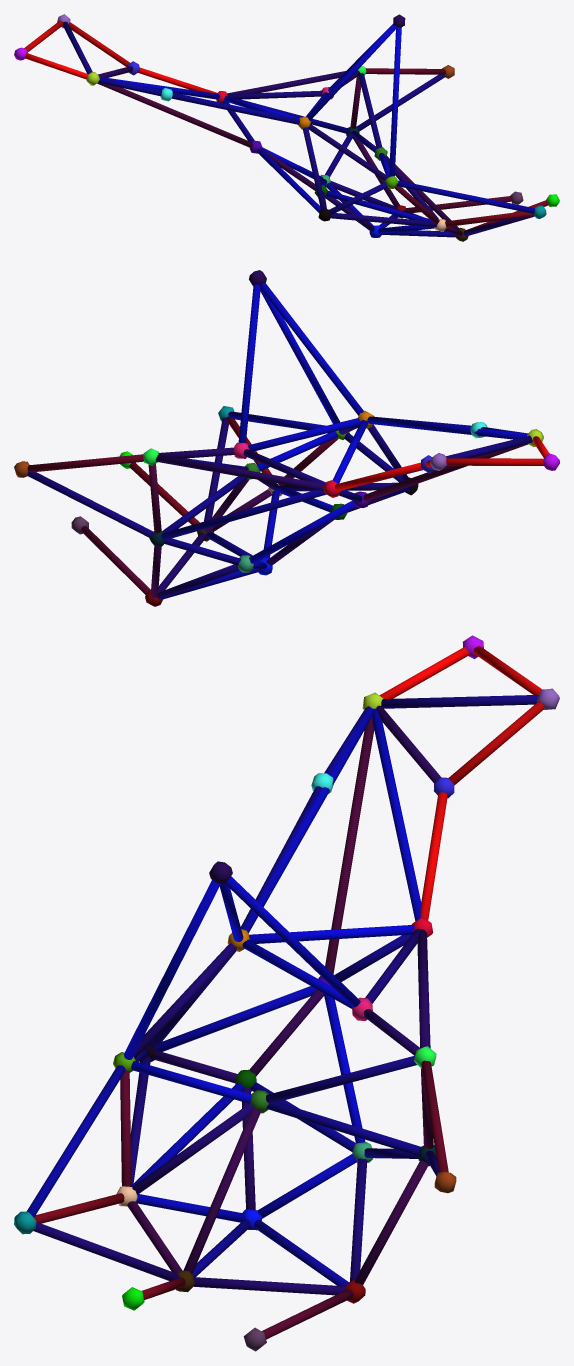
File: hand_skel.glb
The picture shows the model from 3 angles, top to bottom: view 1: azimuth 30°, elevation 25°; view 2: azimuth 150°, elevation 25°; view 3: azimuth 270°, elevation 25°; orthographic projection. The views are drawn at different scales.
Visible parts, largest first — view 1: fg-00329-skel; view 2: fg-00329-skel; view 3: fg-00329-skel.
Part boxes in pixels (left/top/right/bottom): fg-00329-skel: left=14, top=14, right=559, bottom=241; fg-00329-skel: left=14, top=270, right=559, bottom=606; fg-00329-skel: left=14, top=635, right=559, bottom=1351.
Bounding box in the file's own units: 0.3533 × 0.1839 × 0.2248.
1 material, 1 textured.
